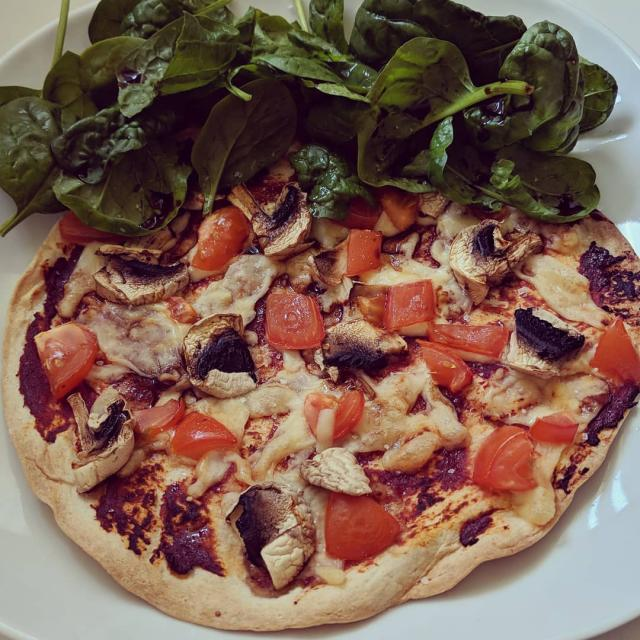basil: (0, 24, 620, 236)
mushrooms: (217, 476, 315, 584), (172, 299, 266, 405), (62, 386, 137, 492), (87, 236, 184, 313), (436, 213, 526, 294), (235, 185, 318, 268), (292, 436, 378, 499), (508, 299, 578, 370), (321, 312, 396, 376)
pizza: (0, 22, 640, 638)
tomatoes: (465, 413, 581, 488), (118, 395, 248, 457), (409, 316, 505, 398), (311, 483, 408, 560), (250, 281, 334, 362), (29, 316, 107, 398), (342, 200, 420, 276), (180, 198, 250, 276), (294, 380, 375, 447), (589, 313, 640, 394), (55, 199, 127, 247), (376, 280, 435, 329)
